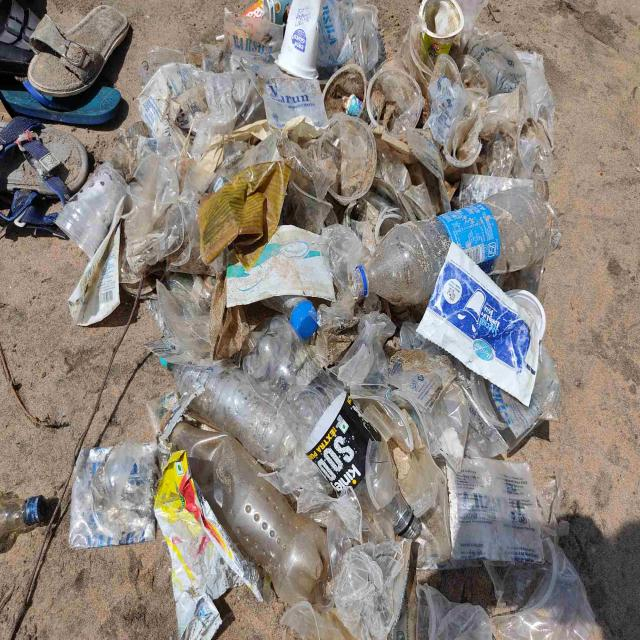glass: (0, 495, 56, 538)
other: (27, 4, 129, 96), (0, 116, 88, 198), (1, 83, 121, 124)
paper: (198, 159, 290, 269), (226, 225, 335, 307), (67, 197, 123, 326), (276, 0, 323, 78)
plastic: (243, 316, 422, 538), (171, 422, 328, 606), (352, 186, 561, 305), (140, 15, 285, 157), (426, 29, 556, 181), (420, 242, 541, 404), (390, 350, 508, 471), (175, 361, 298, 468), (492, 539, 596, 640), (448, 459, 544, 564), (68, 441, 156, 549), (124, 153, 191, 274), (55, 161, 126, 258), (334, 547, 406, 640), (147, 273, 214, 364), (317, 112, 377, 205), (366, 63, 424, 139), (338, 312, 396, 387), (418, 585, 492, 640), (262, 76, 328, 128), (420, 0, 465, 67)
wrapper: (155, 455, 237, 640)
